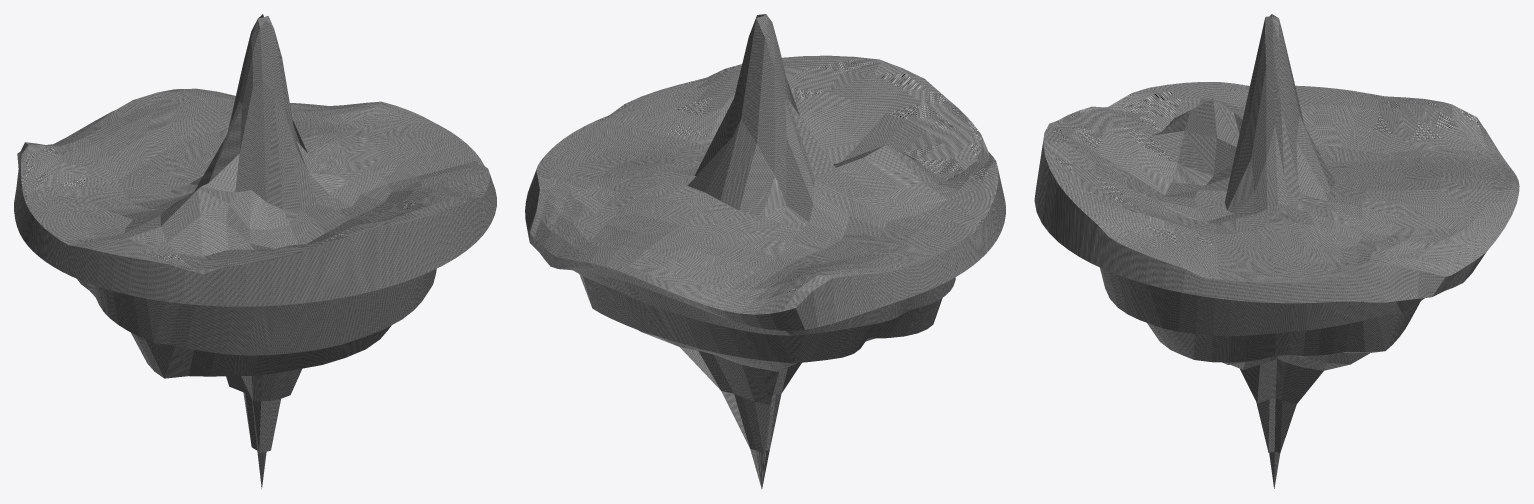
The model's file is Island_MAIN.fbx.
3 views of the same model, side by side, from view 1: azimuth 30°, elevation 25°; view 2: azimuth 150°, elevation 25°; view 3: azimuth 270°, elevation 25° (orthographic).
Visible parts, largest first — view 1: Grid; view 2: Grid; view 3: Grid.
Boxes of the visible parts, x1,y1,x2,y2 form: Grid: [14, 14, 496, 489]; Grid: [525, 14, 1005, 489]; Grid: [1034, 14, 1519, 488].
Size of the model in its own units: 245097 by 265715 by 246715.
